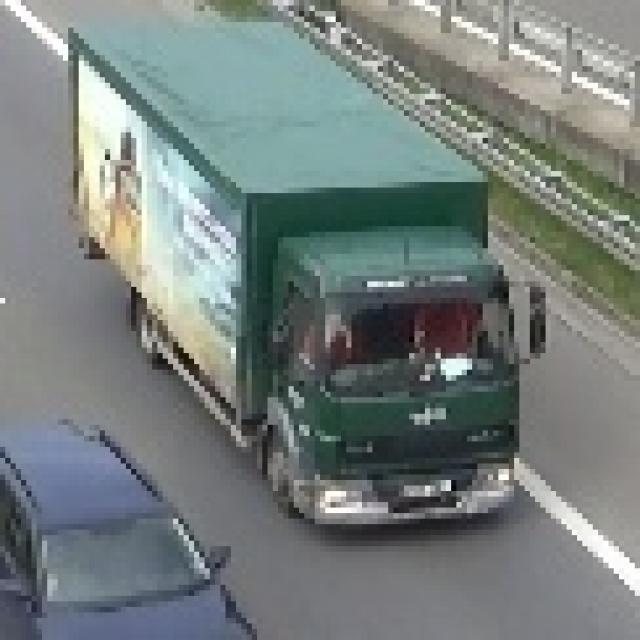truck: (62, 6, 540, 524)
